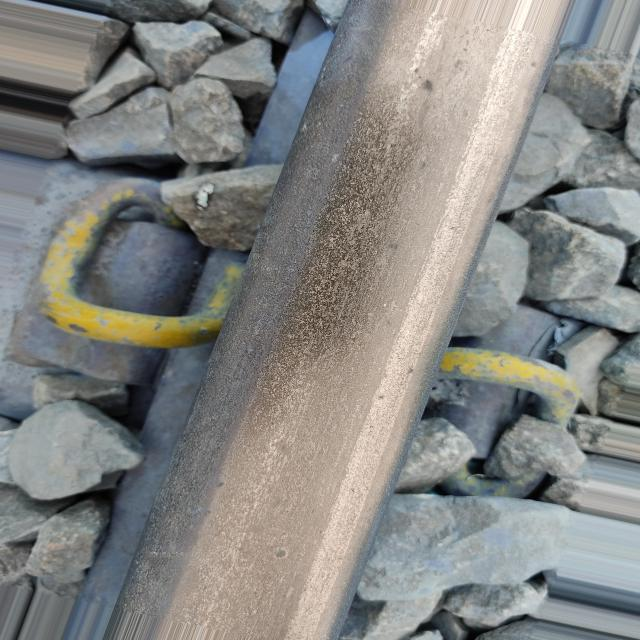Good Fasteners: (37, 182, 243, 348), (423, 304, 578, 459)
